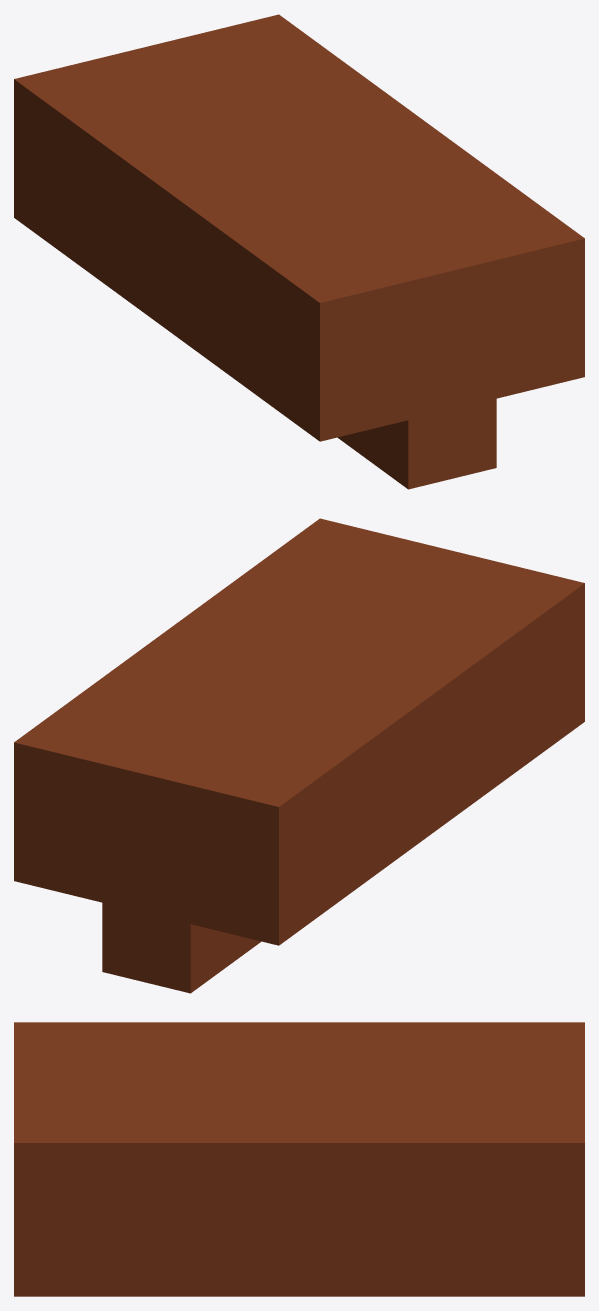
Rendered from wood-2.fbx.
3 views of the same model, one above another, from view 1: azimuth 30°, elevation 25°; view 2: azimuth 150°, elevation 25°; view 3: azimuth 270°, elevation 25° (orthographic). The views are drawn at different scales.
Parts seen in each view (by area): view 1: Cube.035; view 2: Cube.035; view 3: Cube.035.
Boxes of the visible parts, x1,y1,x2,y2 form: Cube.035: (14, 14, 584, 489); Cube.035: (14, 518, 584, 993); Cube.035: (14, 1022, 584, 1296).
Size of the model in its own units: 100 by 75 by 200.
